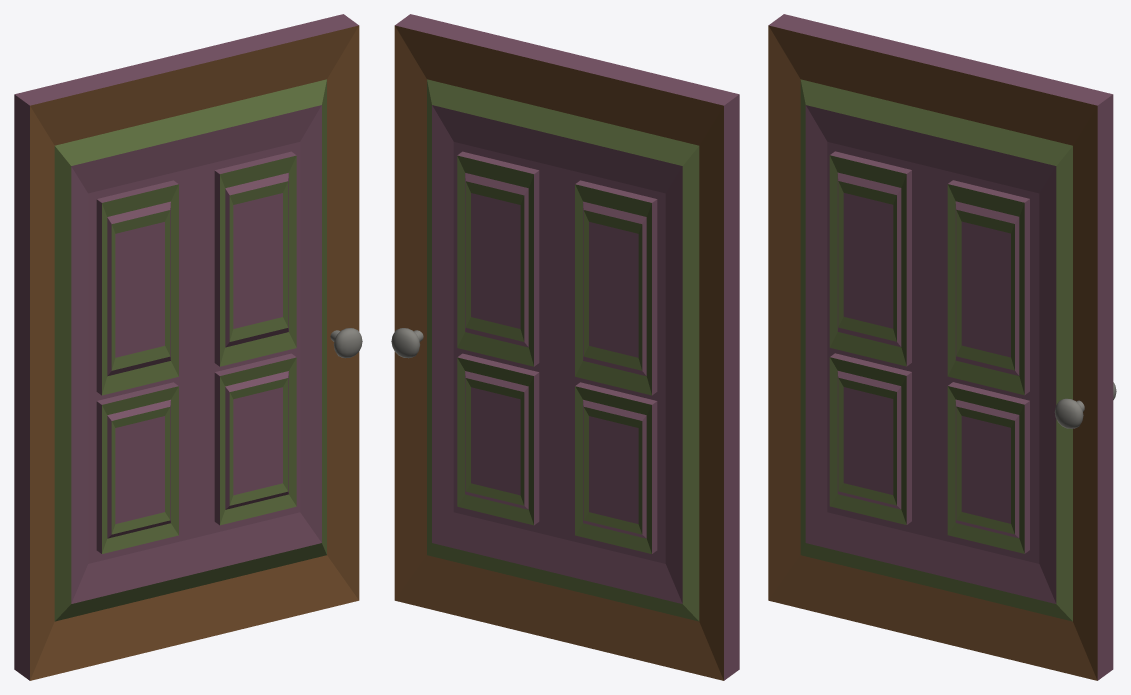
File: DOOR2_Off_Pivot.fbx
The picture shows the model from 3 angles, left to right: view 1: azimuth 30°, elevation 25°; view 2: azimuth 150°, elevation 25°; view 3: azimuth 330°, elevation 25°; orthographic projection.
Parts seen in each view (by area): view 1: DOOR2; view 2: DOOR2; view 3: DOOR2.
Boxes of the visible parts, left/top/right/bottom form: DOOR2: left=14, top=14, right=362, bottom=680; DOOR2: left=391, top=14, right=739, bottom=680; DOOR2: left=768, top=14, right=1116, bottom=680.
Size of the model in its own units: 3.05 by 5.1 by 0.6807.
